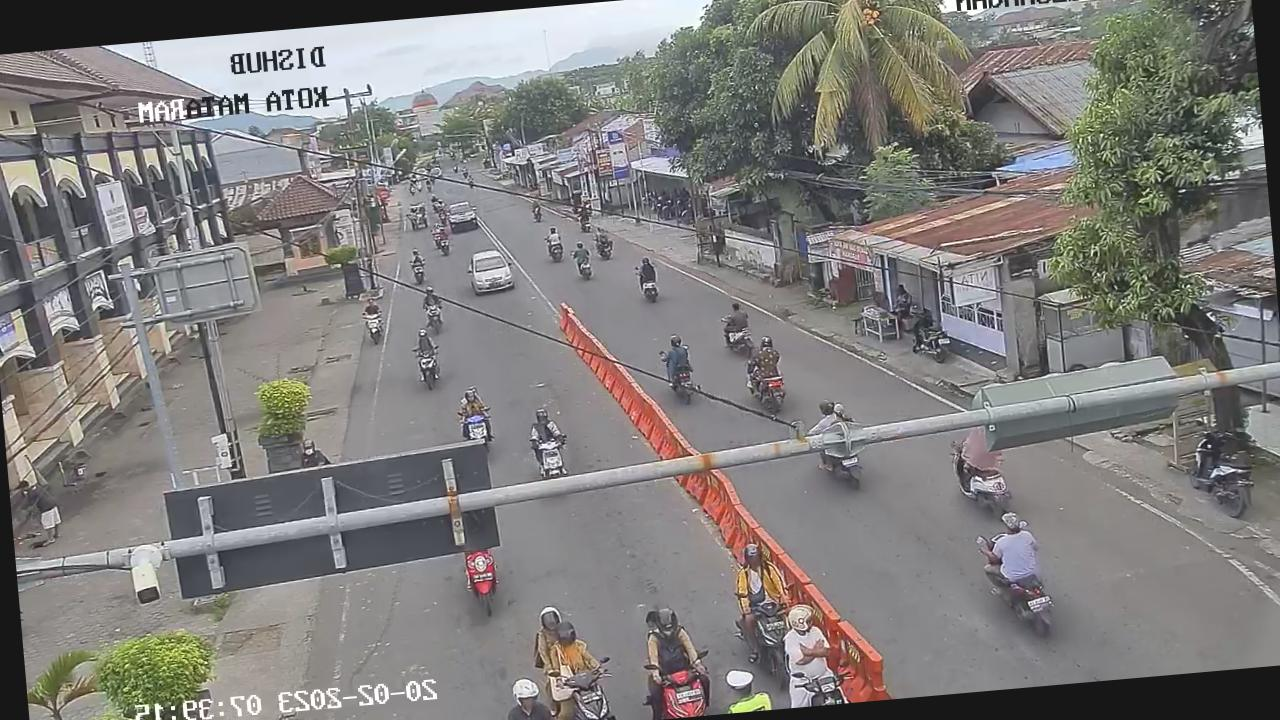car: (466, 247, 515, 296), (447, 197, 478, 234)
cidomo: (402, 197, 432, 233)
motorbike: (744, 590, 802, 680), (552, 654, 623, 720), (457, 542, 509, 620), (654, 656, 714, 720), (530, 432, 570, 482), (461, 407, 499, 457), (412, 349, 444, 395), (362, 310, 387, 348), (424, 300, 445, 336), (410, 258, 428, 284), (438, 236, 452, 256), (430, 229, 443, 250), (436, 207, 450, 226)
person: (977, 505, 1047, 598), (779, 600, 840, 688), (732, 540, 792, 617), (642, 601, 702, 673), (544, 615, 602, 689), (496, 675, 554, 720), (812, 396, 860, 446), (748, 328, 786, 382), (526, 402, 566, 452), (656, 330, 693, 379), (454, 383, 494, 423), (720, 296, 754, 333), (408, 325, 439, 362), (630, 252, 663, 286), (568, 238, 594, 268), (418, 284, 442, 314), (542, 224, 566, 250), (590, 224, 613, 250), (360, 296, 384, 320), (407, 246, 425, 271), (576, 206, 592, 224), (436, 195, 448, 216), (430, 222, 443, 238), (438, 226, 450, 243), (530, 198, 542, 214)
